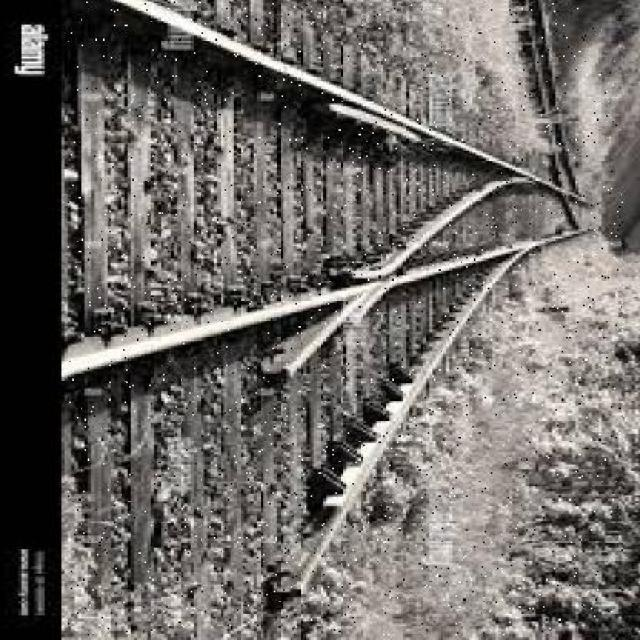rail: (66, 2, 621, 635)
